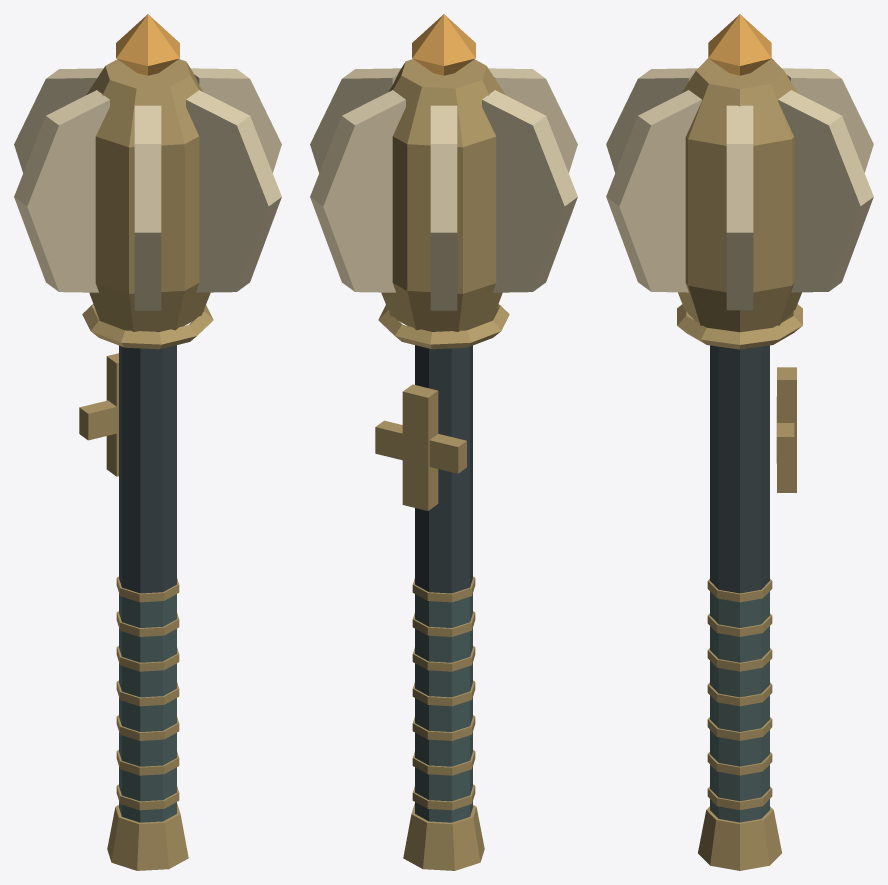
File: Profession_VigilMace.fbx
The picture shows the model from 3 angles, left to right: view 1: azimuth 30°, elevation 25°; view 2: azimuth 150°, elevation 25°; view 3: azimuth 270°, elevation 25°; orthographic projection.
Parts seen in each view (by area): view 1: Profession_VigilMace; view 2: Profession_VigilMace; view 3: Profession_VigilMace.
Boxes of the visible parts, x1,y1,x2,y2 form: Profession_VigilMace: (14, 14, 281, 870); Profession_VigilMace: (310, 14, 577, 870); Profession_VigilMace: (606, 14, 873, 870).
Bounding box in the file's own units: 0.4 × 1.26 × 0.3644.
